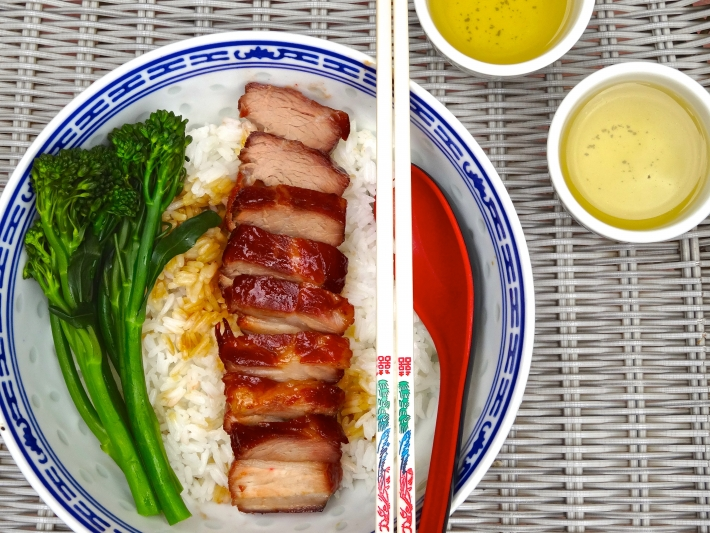char-siu: (223, 81, 342, 514)
